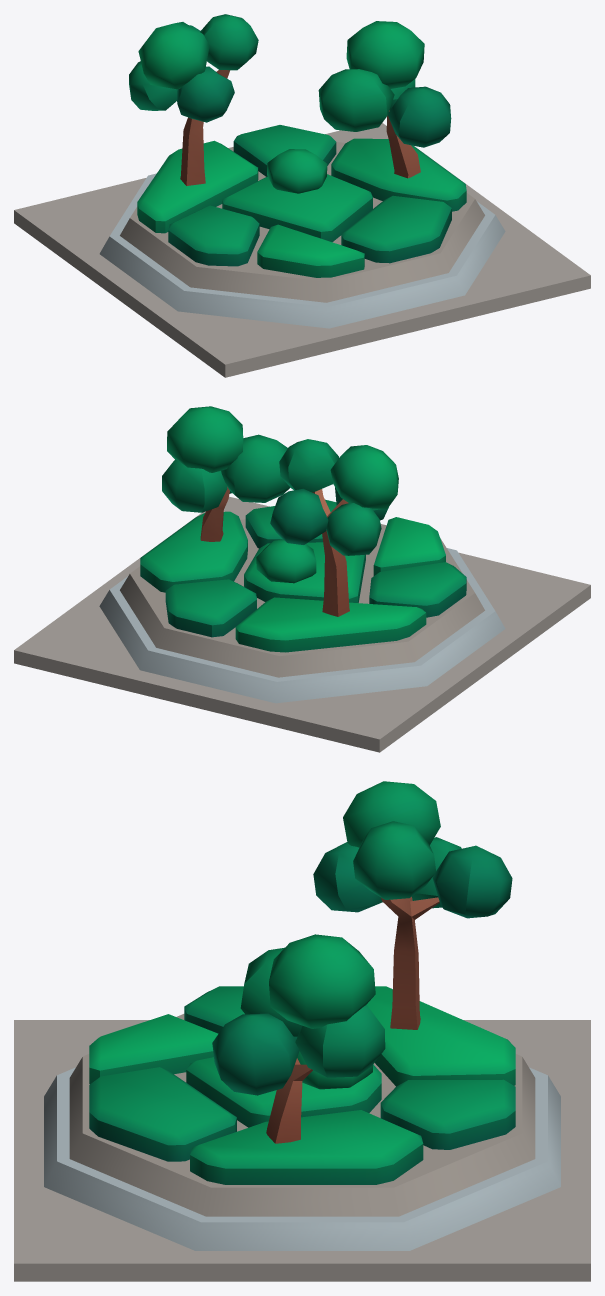
The model's file is space_farm_medium.glb.
3 views of the same model, one above another, from view 1: azimuth 30°, elevation 25°; view 2: azimuth 150°, elevation 25°; view 3: azimuth 270°, elevation 25° (orthographic). The views are drawn at different scales.
Parts seen in each view (by area): view 1: Spacefarm_Medium; view 2: Spacefarm_Medium; view 3: Spacefarm_Medium.
Part boxes in pixels (x1,y1,x2,y2): Spacefarm_Medium: [14, 14, 590, 377]; Spacefarm_Medium: [14, 406, 590, 752]; Spacefarm_Medium: [14, 781, 590, 1281].
Bounding box in the file's own units: 0.29 × 0.1736 × 0.29.
1 material, 1 textured.
